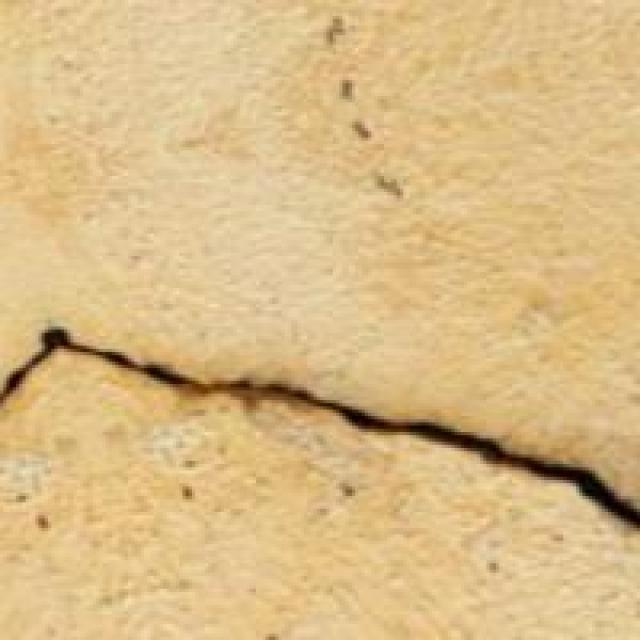Crack: (6, 278, 637, 592)
